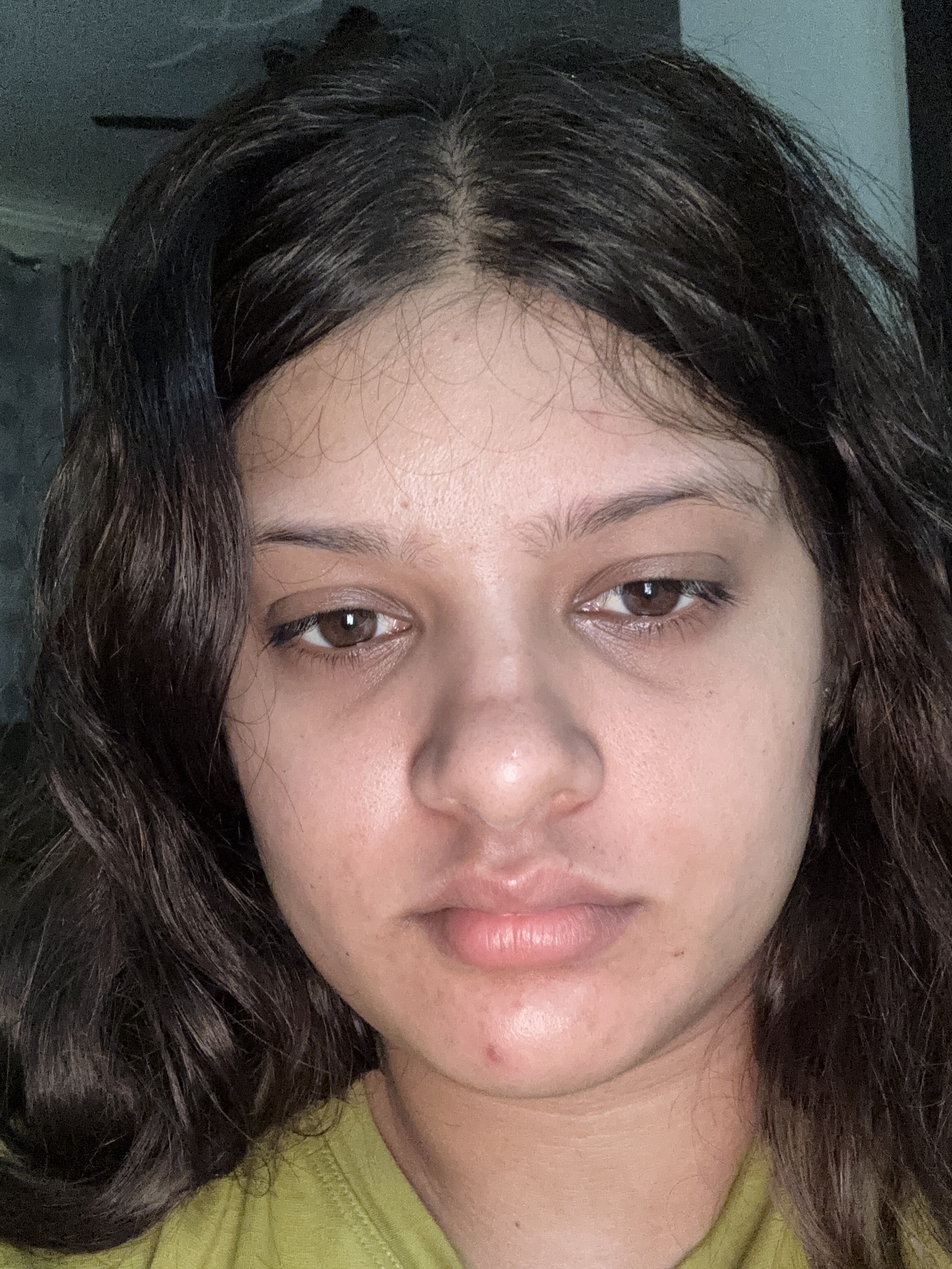papule: (470, 1040, 526, 1072)
